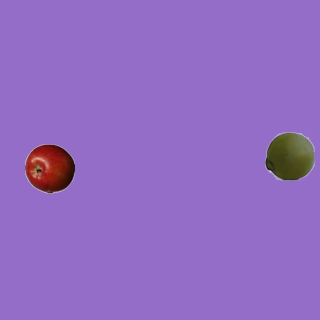Apple Braeburn: (24, 143, 74, 193)
Grape White 4: (264, 130, 314, 180)
